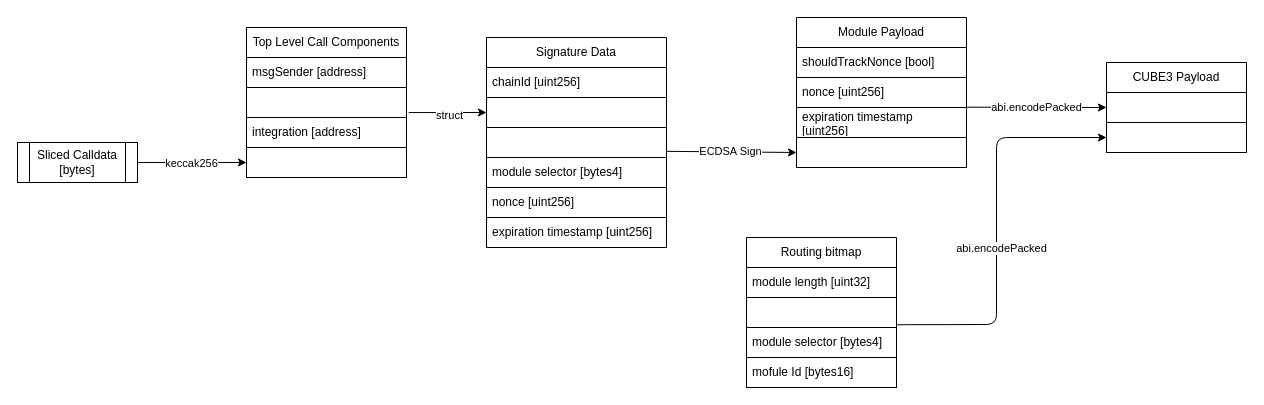
This 1264x405 diagram has some shape labels left out. Here are the shapes that lost their labels. From the top down, the centre of each, then its label:
At [326,102]: "msgValue [uint256]".
At [576,112]: "integrationData [struct]".
At [1176,107]: "module payload + padding [bytes]".
At [576,142]: "module [address]".
At [881,152]: "signature [bytes]".
At [1176,137]: "routing footer [uint256]".
At [326,162]: "calldataDigest [bytes32]".
At [821,312]: "module padding [uint32]".
